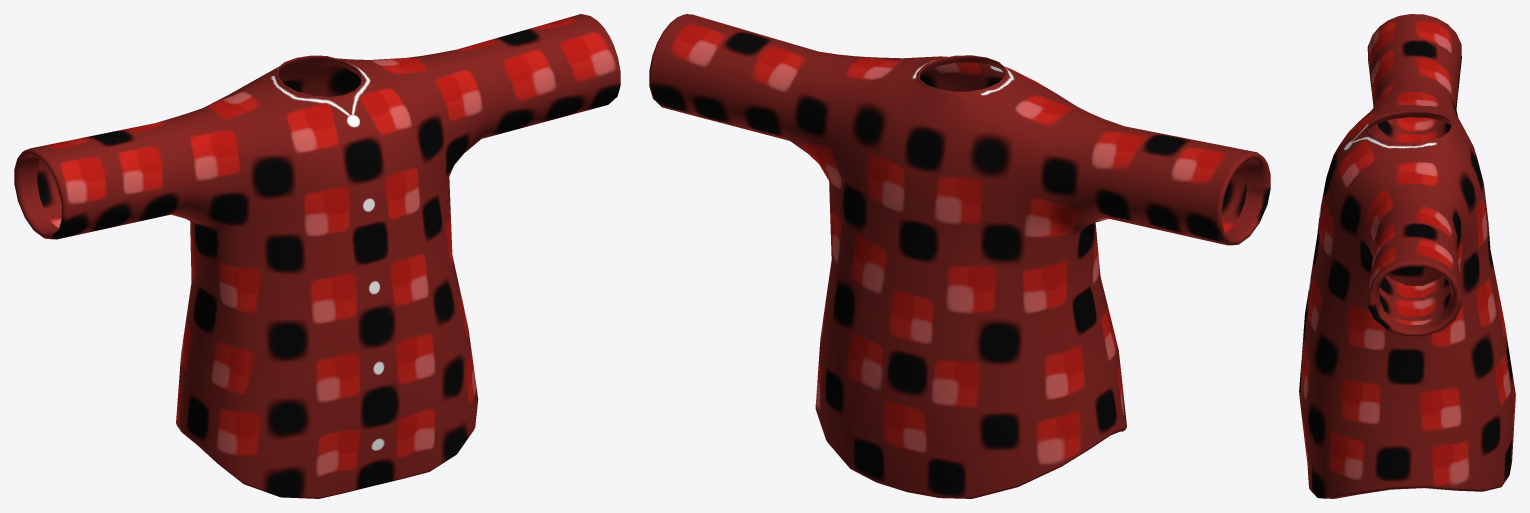
The picture shows the model from 3 angles, left to right: view 1: azimuth 30°, elevation 25°; view 2: azimuth 150°, elevation 25°; view 3: azimuth 270°, elevation 25°; orthographic projection. The views are drawn at different scales.
Parts seen in each view (by area): view 1: T_shirt3; view 2: T_shirt3; view 3: T_shirt3.
Part boxes in pixels (<box>): T_shirt3: <box>14,14,620,498</box>; T_shirt3: <box>649,14,1270,498</box>; T_shirt3: <box>1299,14,1515,498</box>.
Size of the model in its own units: 1.18 by 0.7514 by 0.4322.
1 material, 1 textured.
